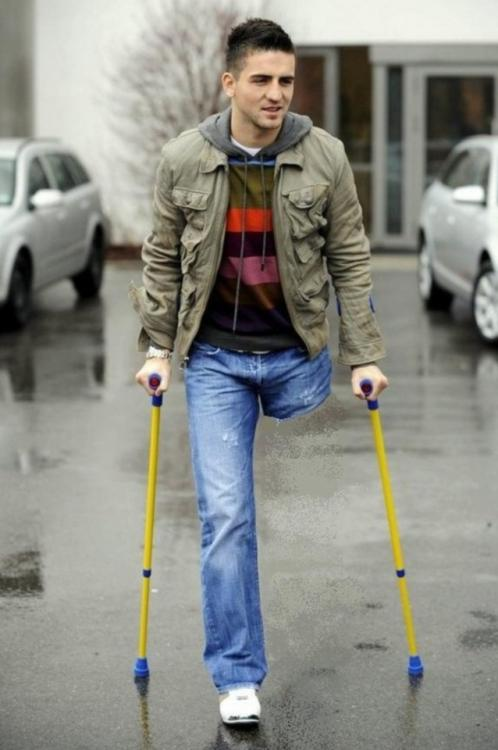crutches: (129, 17, 424, 725)
